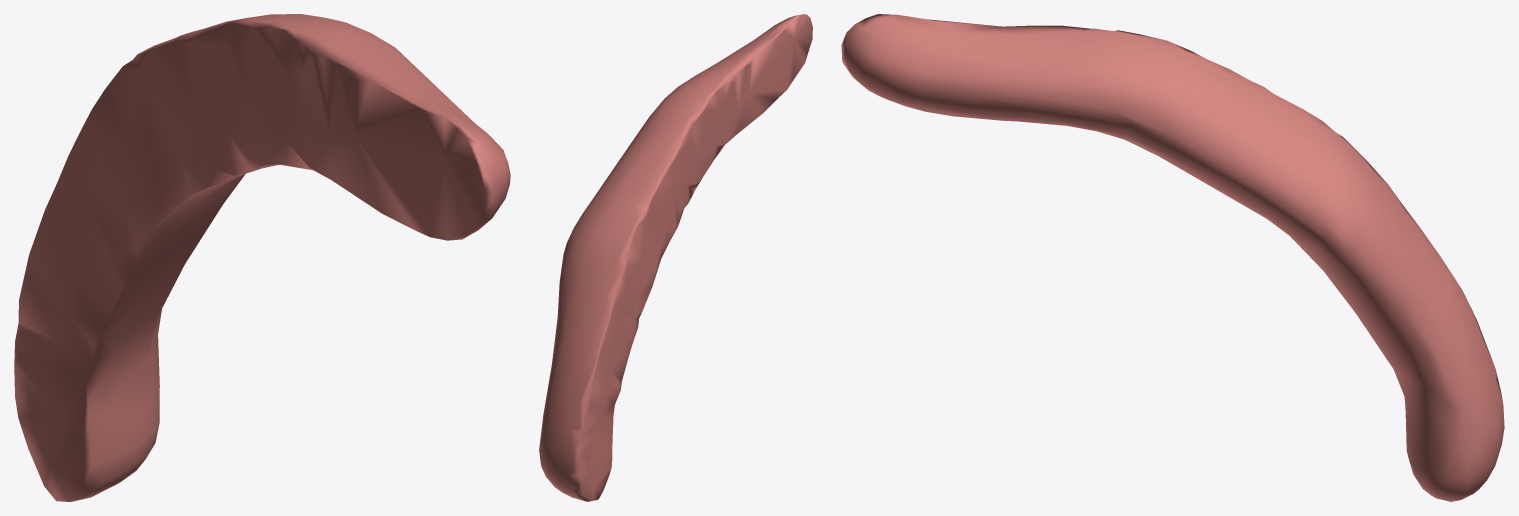
The model's file is fma46735_mm1253.glb.
3 views of the same model, side by side, from view 1: azimuth 30°, elevation 25°; view 2: azimuth 150°, elevation 25°; view 3: azimuth 270°, elevation 25° (orthographic). The views are drawn at different scales.
Visible parts, largest first — view 1: FMA46735_MM1253; view 2: FMA46735_MM1253; view 3: FMA46735_MM1253.
Part boxes in pixels (x1,y1,x2,y2): FMA46735_MM1253: (14, 14, 510, 501); FMA46735_MM1253: (539, 14, 812, 501); FMA46735_MM1253: (841, 14, 1504, 501).
Size of the model in its own units: 0.00492 by 0.0213 by 0.0271.
